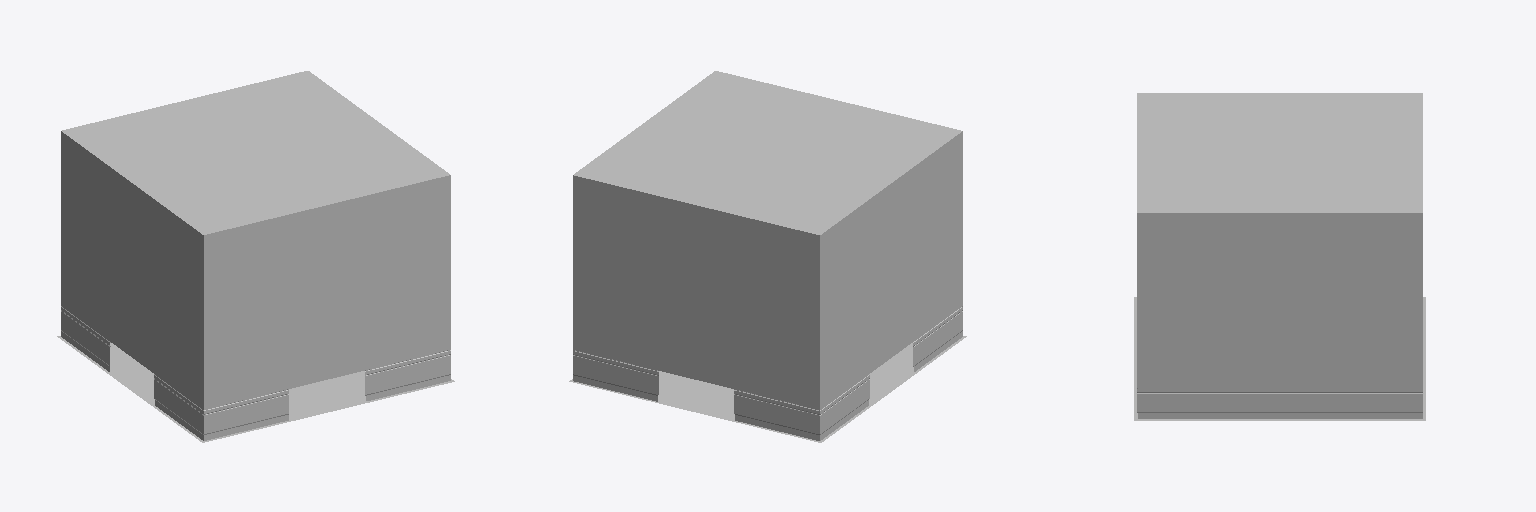
The model's file is Anubis_ThreeDoorRoom.obj.
3 renders of one model, left to right at view 1: azimuth 30°, elevation 25°; view 2: azimuth 150°, elevation 25°; view 3: azimuth 270°, elevation 25°, orthographic.
Parts seen in each view (by area): view 1: Walls, Ceiling, WallTrim, Floor; view 2: Walls, Ceiling, WallTrim, Floor; view 3: Walls, Ceiling, WallTrim, Floor.
Boxes of the visible parts, x1=… form: Walls: x1=61, y1=131, x2=450, y2=409; Ceiling: x1=62, y1=71, x2=449, y2=234; WallTrim: x1=61, y1=306, x2=450, y2=440; Floor: x1=57, y1=336, x2=454, y2=442; Walls: x1=573, y1=131, x2=962, y2=409; Ceiling: x1=574, y1=71, x2=961, y2=234; WallTrim: x1=573, y1=306, x2=962, y2=440; Floor: x1=569, y1=336, x2=966, y2=442; Walls: x1=1137, y1=213, x2=1422, y2=387; Ceiling: x1=1137, y1=93, x2=1422, y2=212; WallTrim: x1=1137, y1=388, x2=1422, y2=418; Floor: x1=1134, y1=297, x2=1425, y2=420.
Size of the model in its own units: 10 by 7.8 by 10.01.